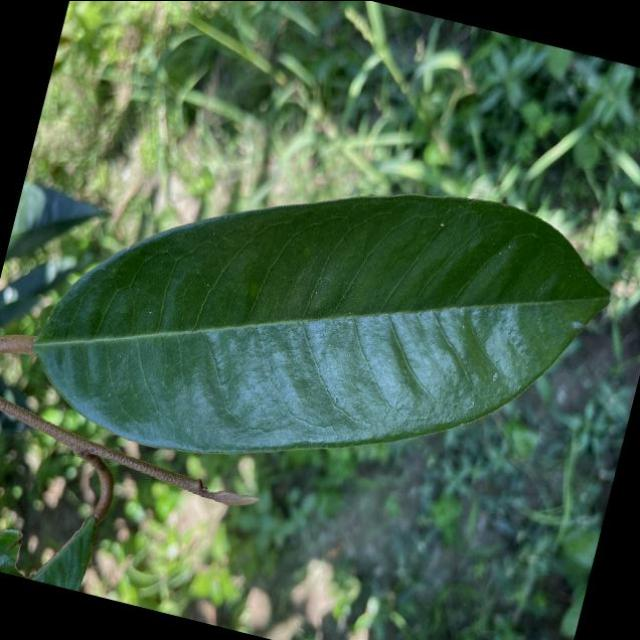No Disease: (7, 91, 635, 554)
